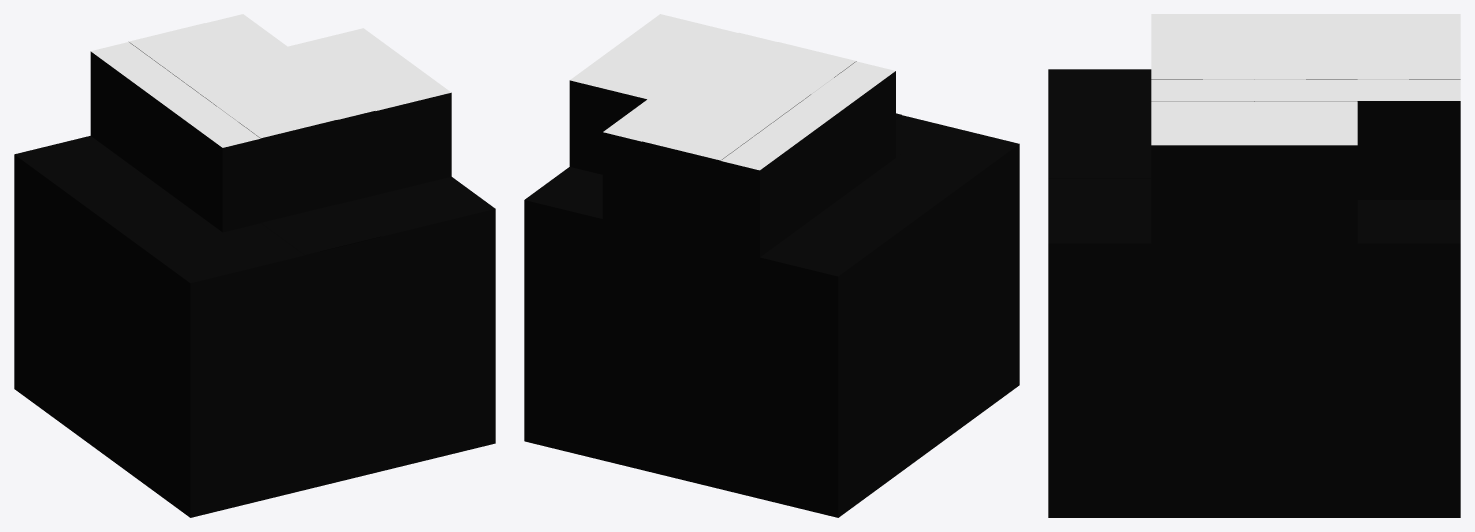
Rendered from corner_path.glb.
3 views of the same model, side by side, from view 1: azimuth 30°, elevation 25°; view 2: azimuth 150°, elevation 25°; view 3: azimuth 270°, elevation 25° (orthographic). The views are drawn at different scales.
Visible parts, largest first — view 1: corner; view 2: corner; view 3: corner.
Part boxes in pixels (<box>): corner: <box>14,14,495,517</box>; corner: <box>524,14,1019,517</box>; corner: <box>1048,14,1460,517</box>.
Bounding box in the file's own units: 2 × 2 × 2.
1 material, 1 textured.
